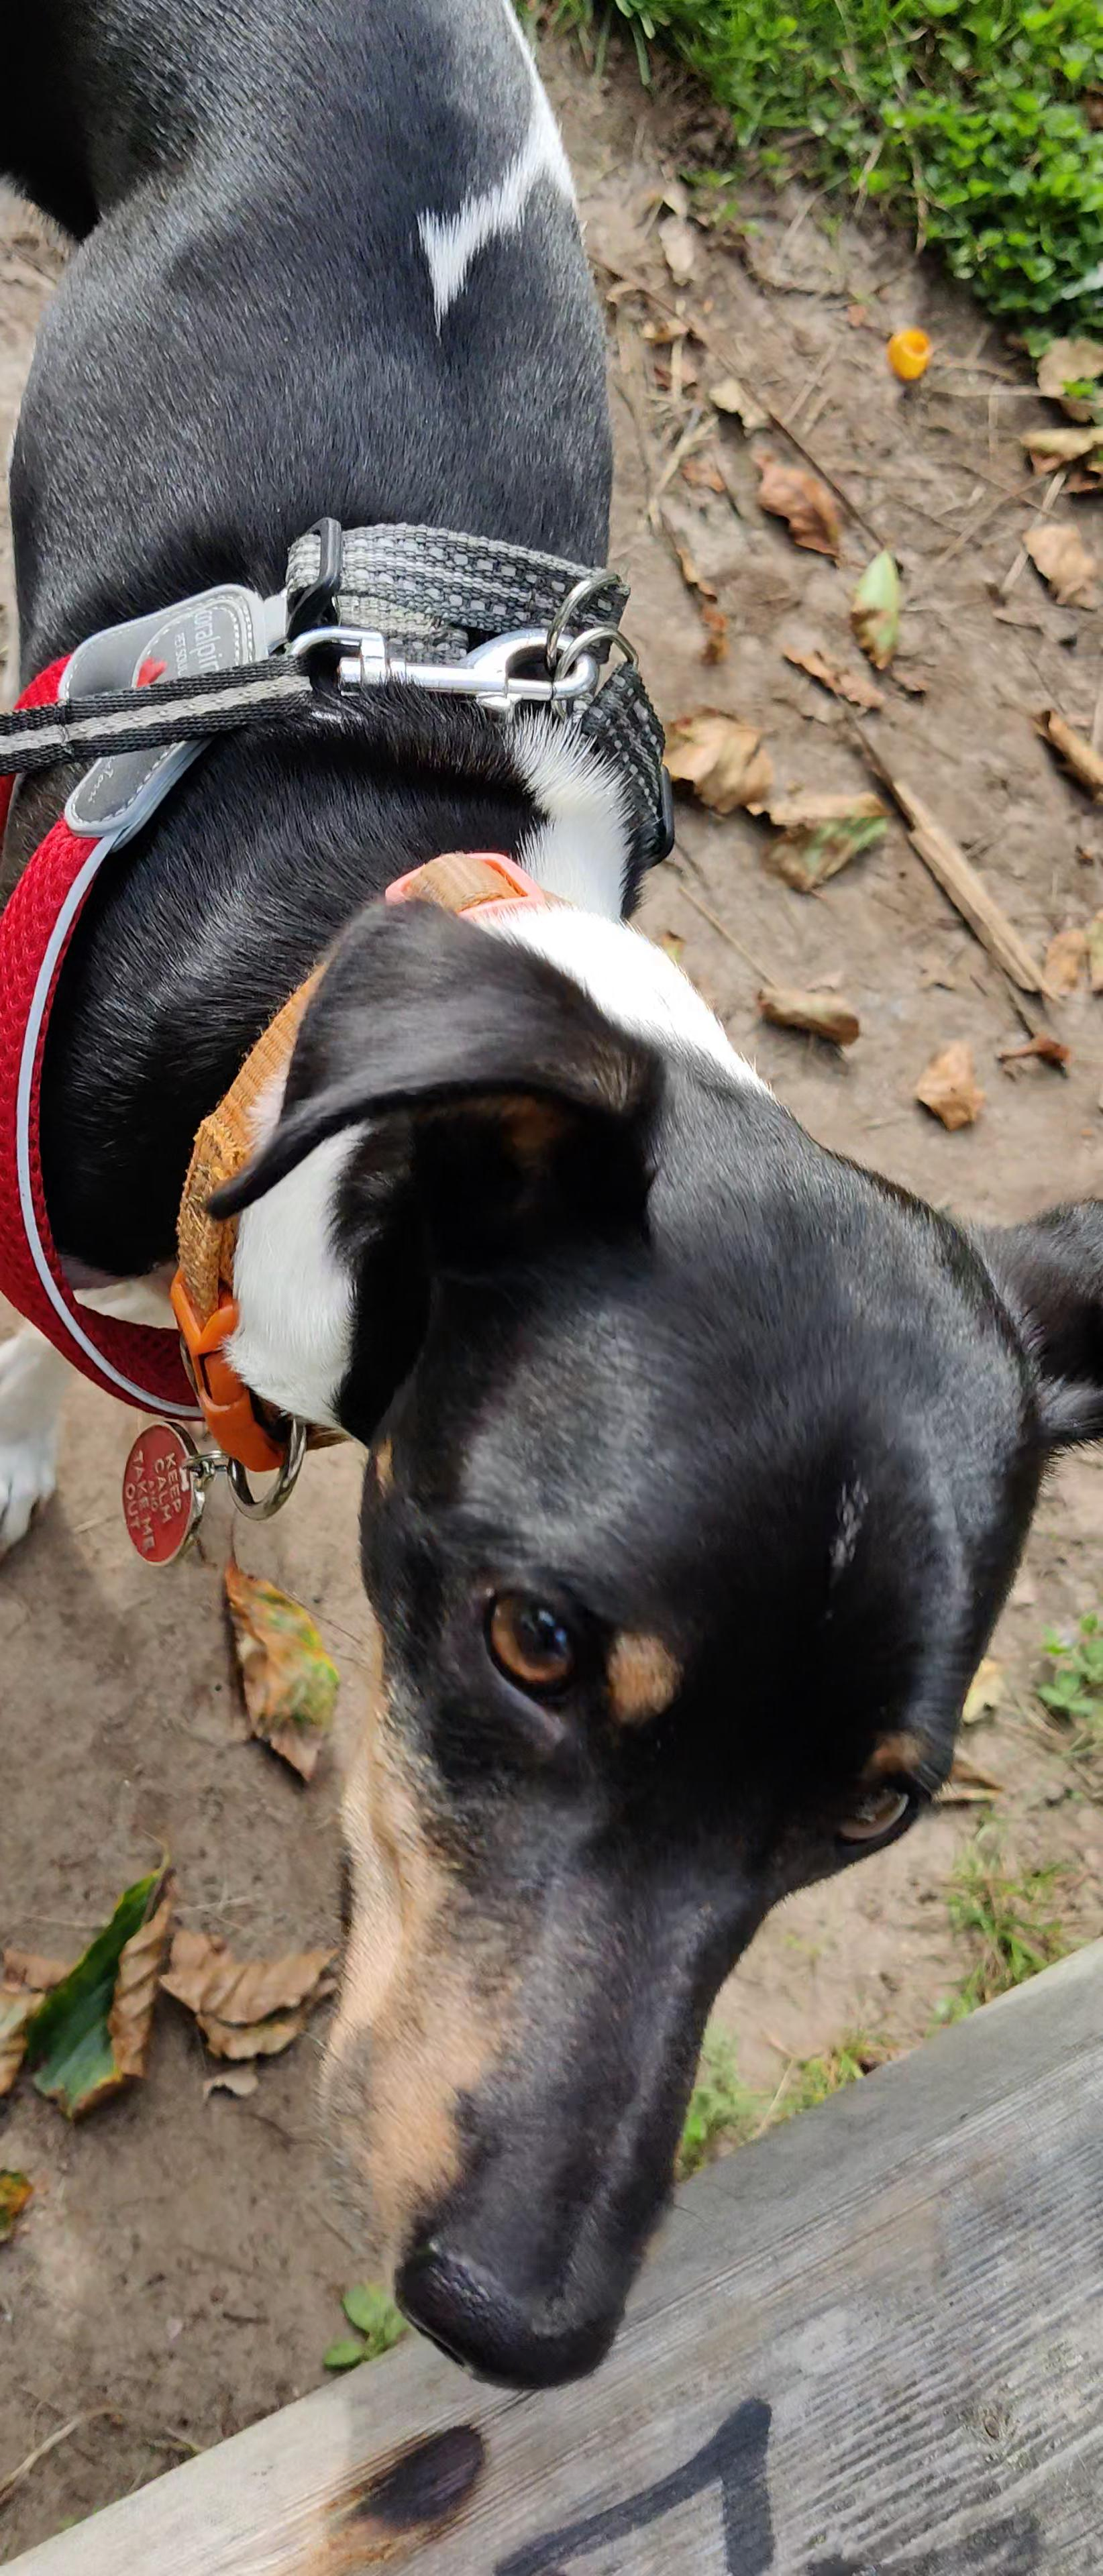Dog: (0, 0, 1103, 2403)
